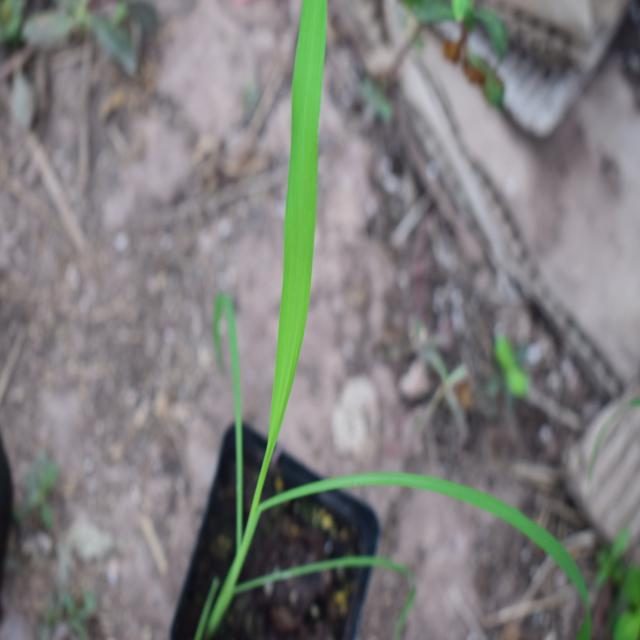barnyard_grass: (177, 7, 491, 571)
